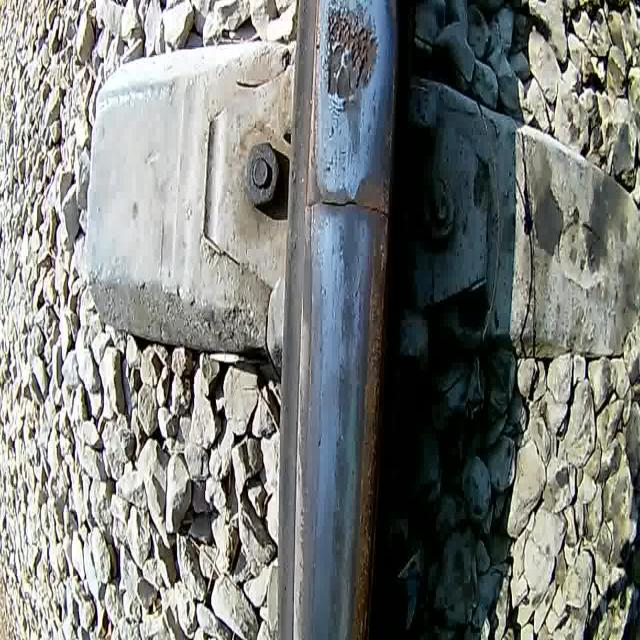Cracks: (352, 249, 368, 338), (326, 92, 348, 137), (335, 220, 349, 288), (336, 361, 344, 449), (341, 291, 346, 342)
Joint: (296, 178, 399, 230)
Spallings: (322, 2, 377, 103)
Squats: (321, 0, 382, 159), (328, 359, 361, 447), (334, 204, 367, 289), (321, 571, 352, 640), (329, 433, 355, 507), (334, 290, 362, 358), (328, 502, 352, 579)
